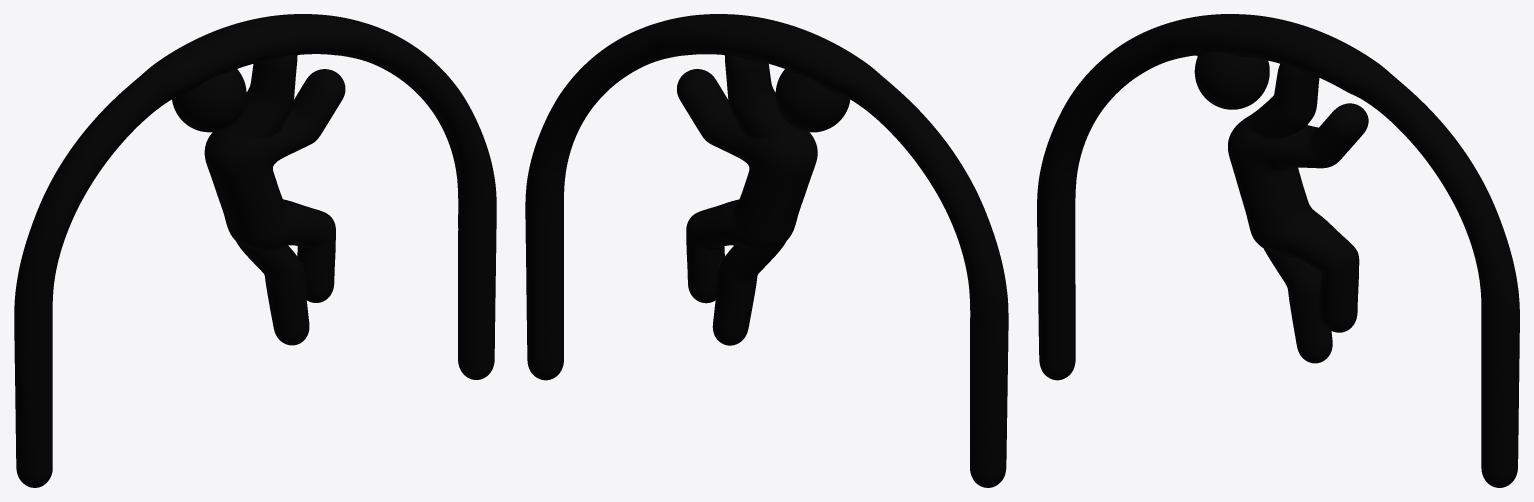
Rendered from Trepar.glb.
The picture shows the model from 3 angles, left to right: view 1: azimuth 30°, elevation 25°; view 2: azimuth 150°, elevation 25°; view 3: azimuth 330°, elevation 25°; orthographic projection.
Visible parts, largest first — view 1: Mesh_0.001; view 2: Mesh_0.001; view 3: Mesh_0.001.
Part boxes in pixels (x1,y1,x2,y2): Mesh_0.001: (14,14,496,487); Mesh_0.001: (525,14,1008,487); Mesh_0.001: (1037,14,1519,487).
Size of the model in its own units: 3.67 by 3 by 0.4983.
Materials: 1 (1 with a texture image).
